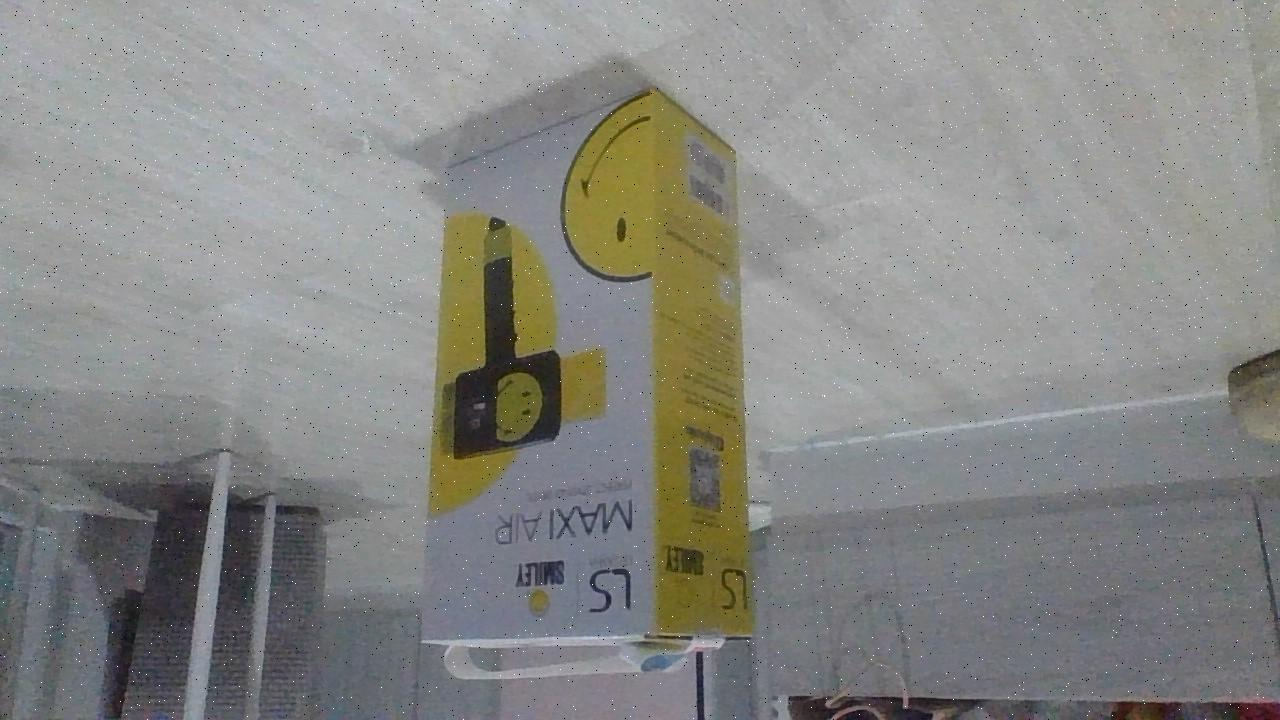Dryer: (416, 87, 760, 683)
